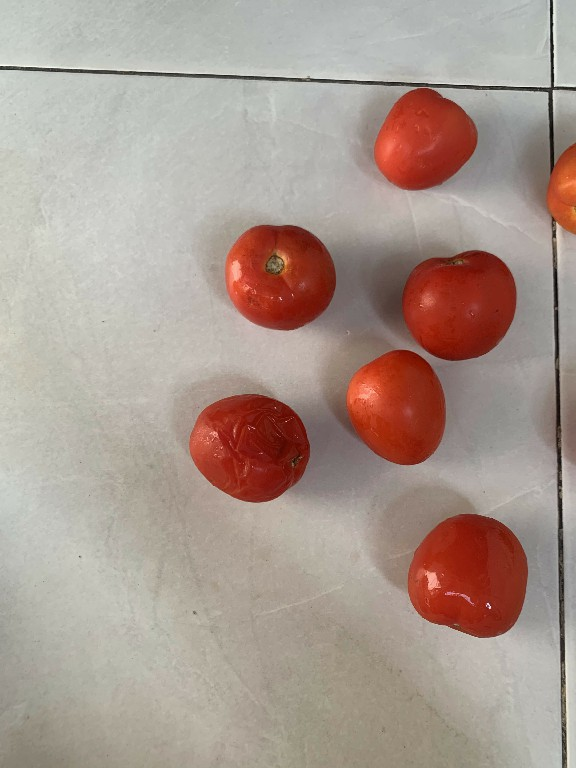NG: (186, 390, 311, 504)
OK: (402, 506, 538, 643), (399, 244, 525, 367), (339, 343, 456, 471), (224, 214, 337, 338), (370, 76, 483, 188)
